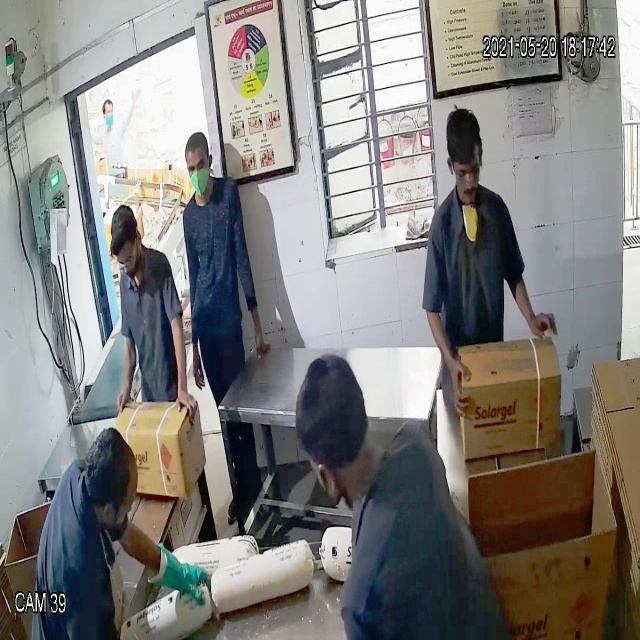Gafas: (442, 147, 485, 187), (107, 245, 139, 271)
Sin_gafas: (178, 151, 222, 180)
